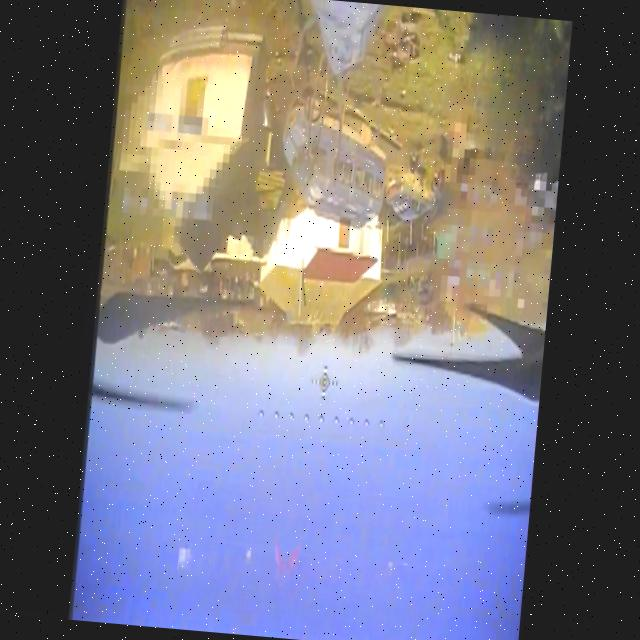Vehicle: (277, 101, 390, 228), (386, 174, 444, 223)
